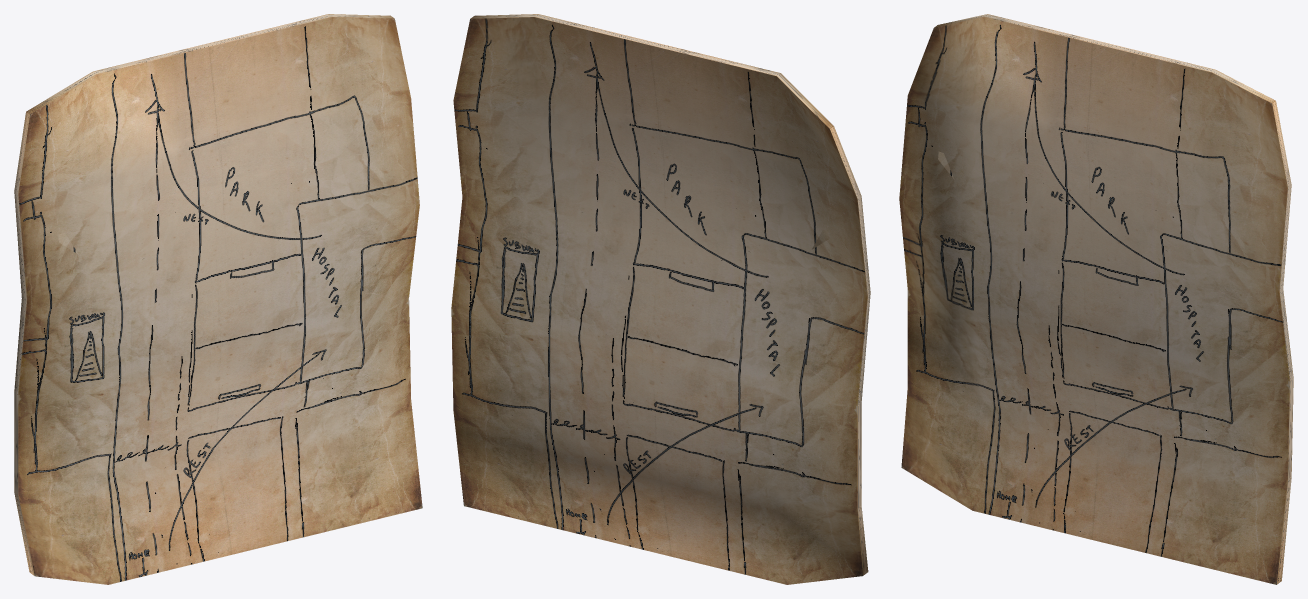
The model's file is map.fbx.
The picture shows the model from 3 angles, left to right: view 1: azimuth 30°, elevation 25°; view 2: azimuth 150°, elevation 25°; view 3: azimuth 330°, elevation 25°; orthographic projection. The views are drawn at different scales.
Visible parts, largest first — view 1: Cube; view 2: Cube; view 3: Cube.
Part boxes in pixels (left/top/right/bottom): Cube: left=14, top=14, right=422, bottom=584; Cube: left=451, top=14, right=870, bottom=584; Cube: left=899, top=14, right=1293, bottom=584.
Bounding box in the file's own units: 165 × 201 × 16.81.
Materials: 1 (1 with a texture image).
